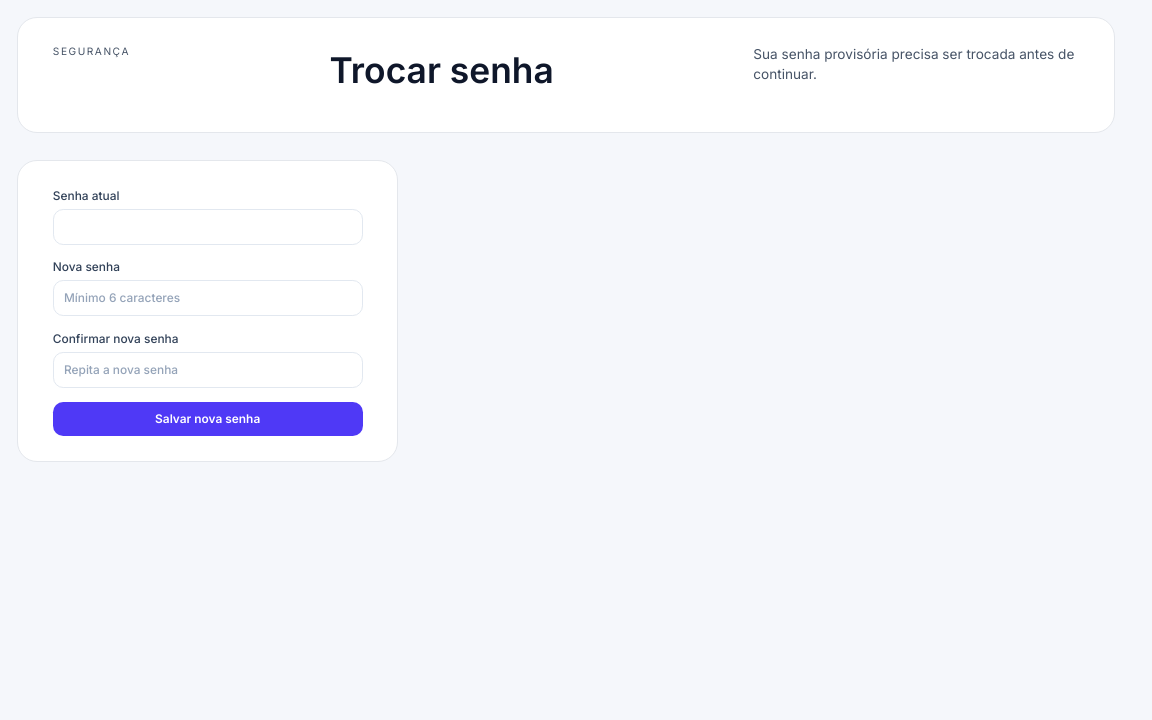
Test: ChangePassword — 401 (M3) e senha igual (M2) › 401 "Senha atual incorreta." mostra o erro na tela e mantém a sessão
Type "provisoria1" into the password field labelled "Senha atual".
click(208, 227); type("provisoria1")  # box [53,209,362,245]
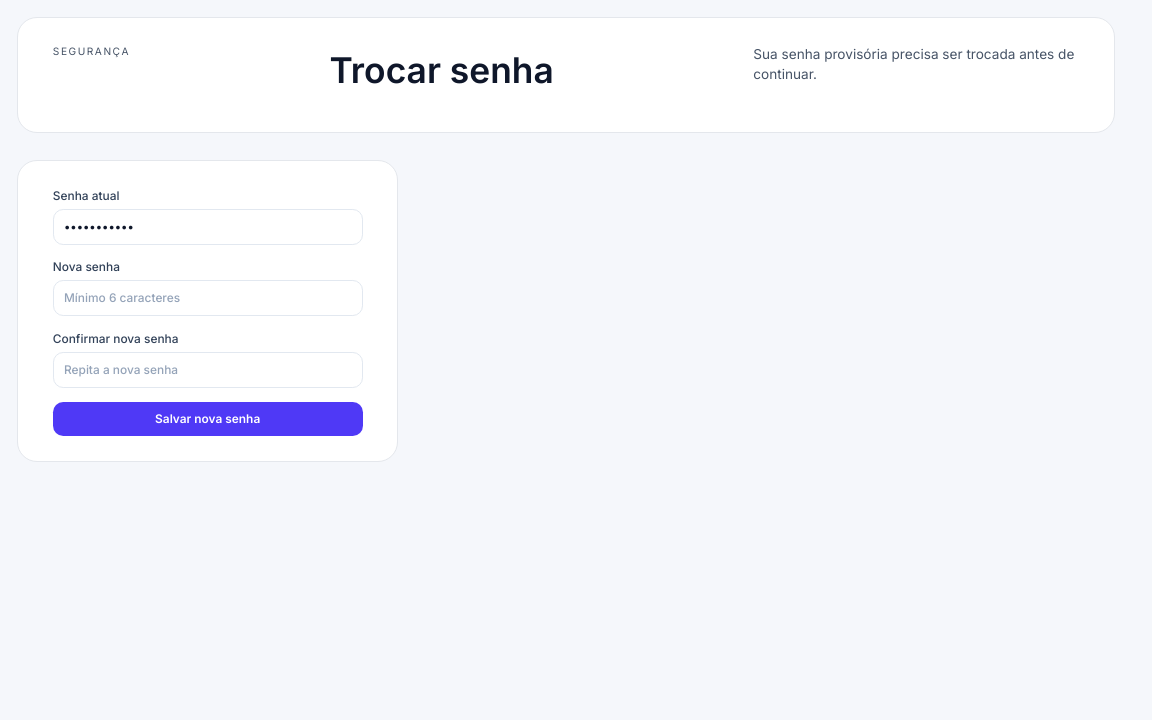
Type "novaSenha1" into the password field labelled "Nova senha".
click(208, 298); type("novaSenha1")  # box [53,280,362,316]
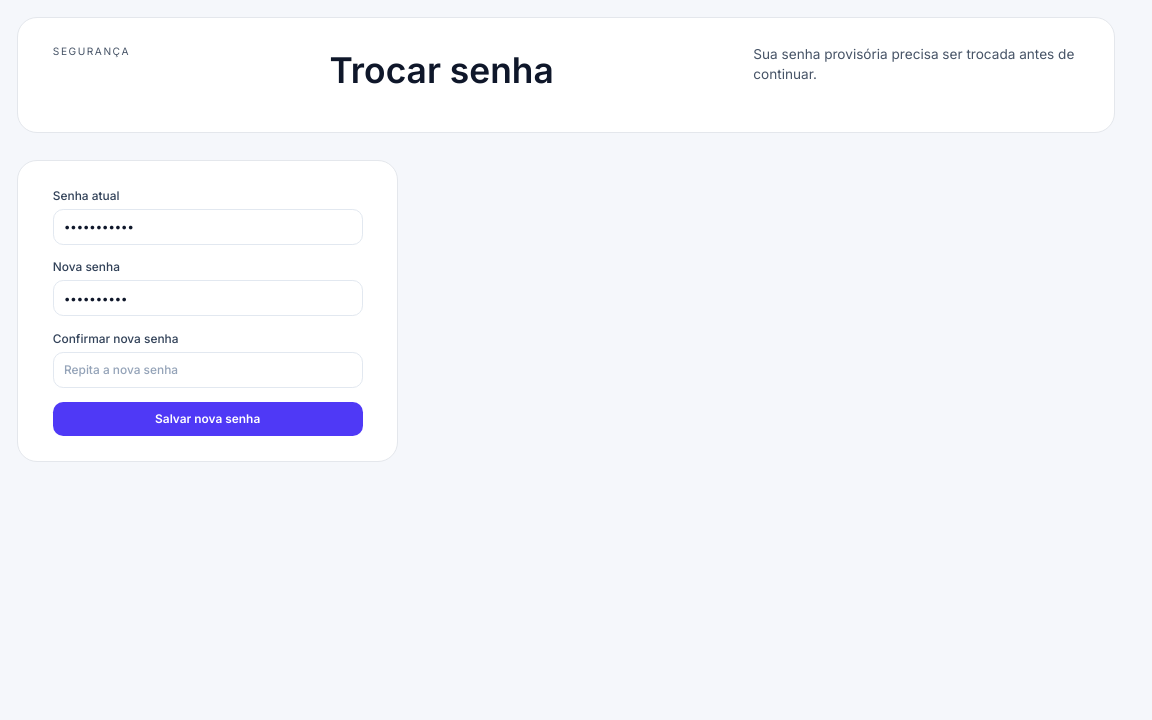
Type "novaSenha1" into the password field labelled "Confirmar nova senha".
click(208, 370); type("novaSenha1")  # box [53,352,362,388]
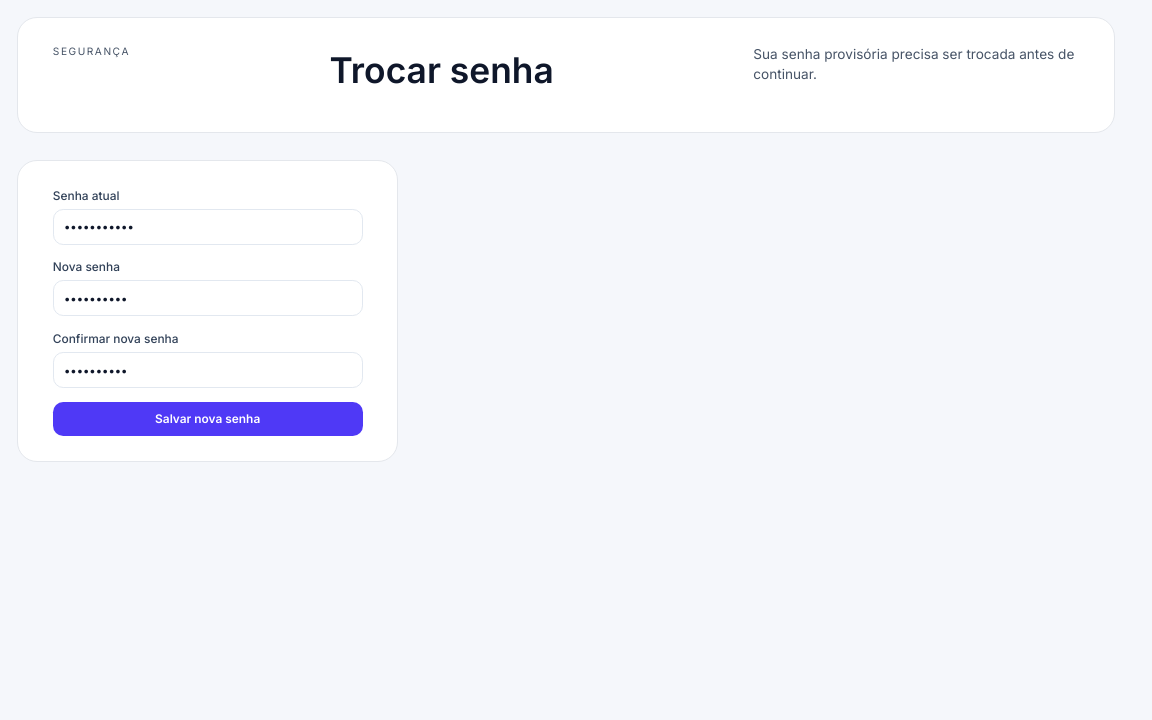
Click the button "Salvar nova senha".
click(208, 419)  # box [53,402,362,436]
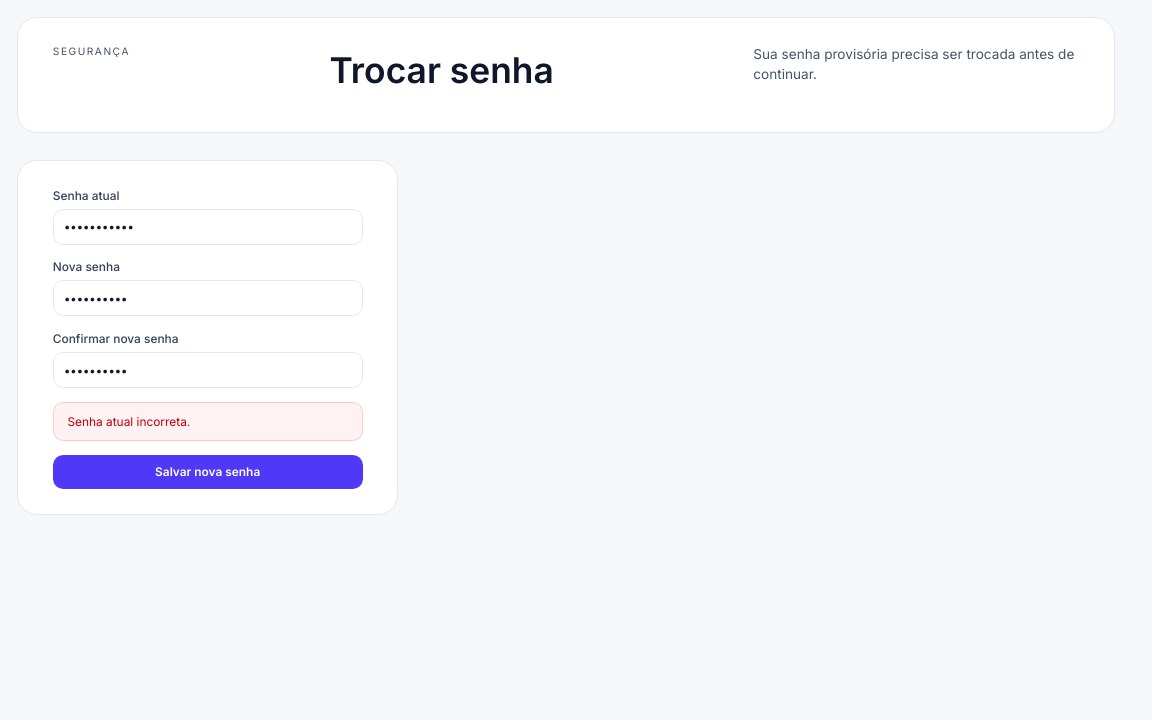
Check: the text "Senha atual incorreta." is shown, box [53,402,362,441]
